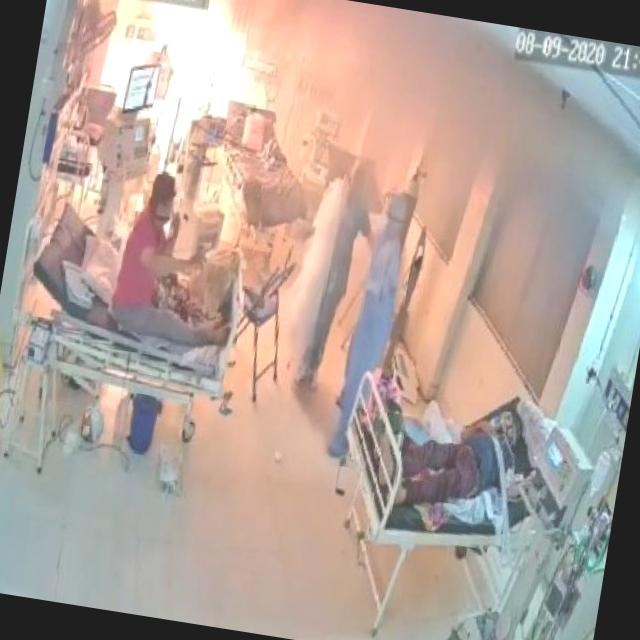fire: (77, 0, 313, 183)
